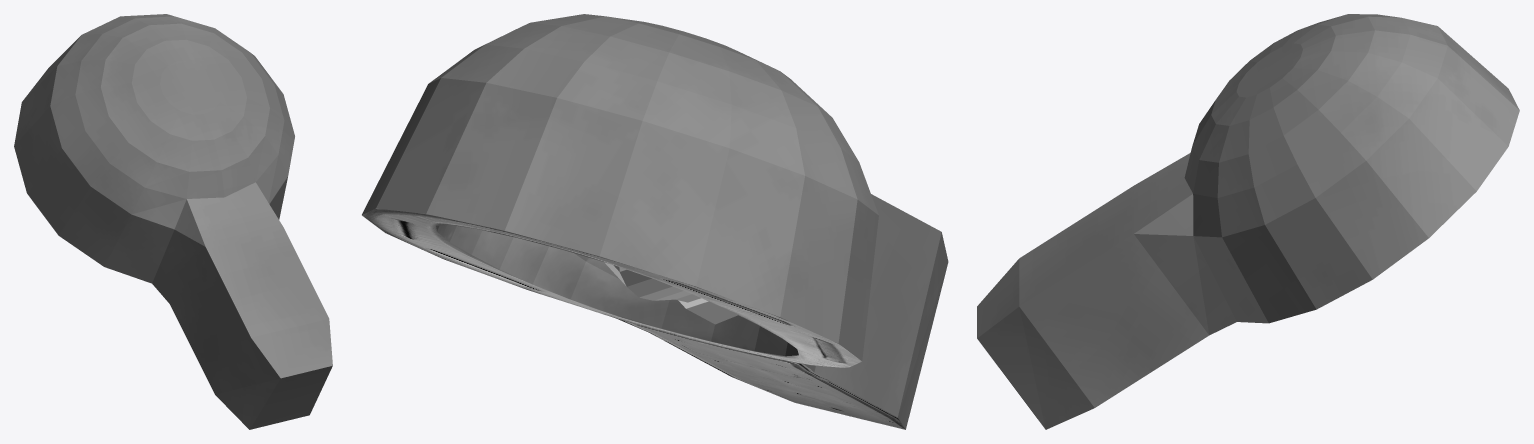
File: lampSov2_02.glb
The picture shows the model from 3 angles, left to right: view 1: azimuth 30°, elevation 25°; view 2: azimuth 150°, elevation 25°; view 3: azimuth 270°, elevation 25°; orthographic projection. The views are drawn at different scales.
Parts seen in each view (by area): view 1: geometry_1; view 2: geometry_1, geometry_0; view 3: geometry_1.
Part boxes in pixels (x1,y1,x2,y2): geometry_1: (14, 14, 332, 429); geometry_1: (362, 14, 948, 429); geometry_0: (604, 262, 737, 324); geometry_1: (977, 14, 1519, 429).
Size of the model in its own units: 1.8 by 2.11 by 2.72.
2 materials, 1 textured.
